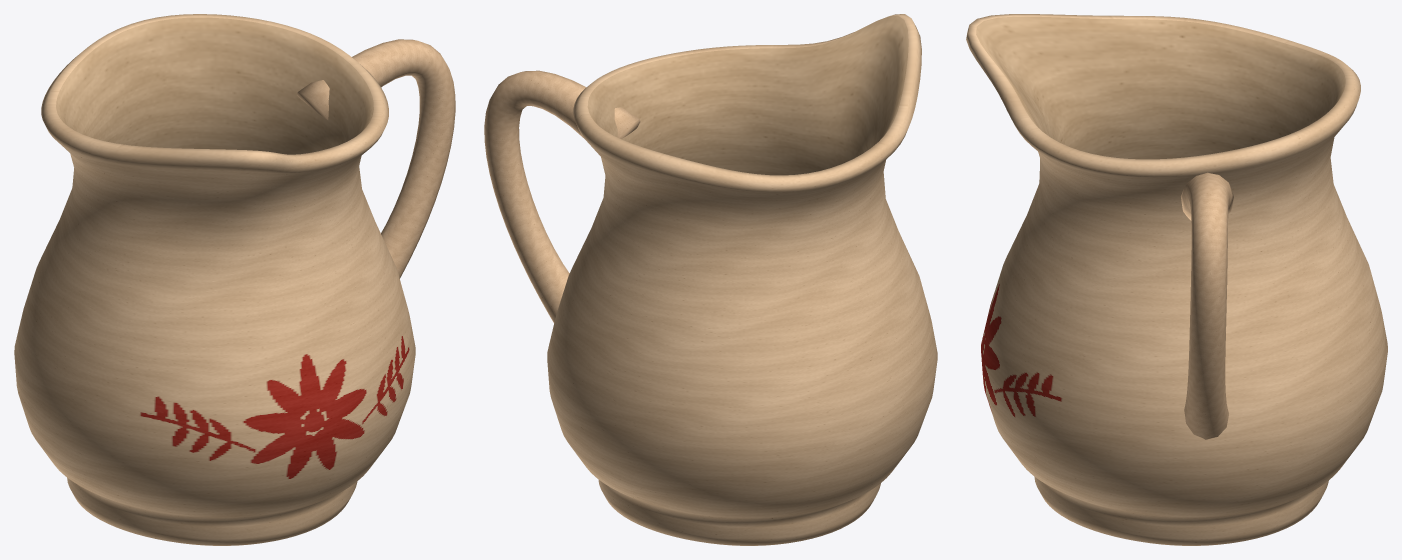
File: wash-pitcher.glb
3 renders of one model, left to right at view 1: azimuth 30°, elevation 25°; view 2: azimuth 150°, elevation 25°; view 3: azimuth 270°, elevation 25°, orthographic. The views are drawn at different scales.
Parts seen in each view (by area): view 1: Glazed hollow hand-thrown body, Pulled ceramic handle; view 2: Glazed hollow hand-thrown body, Pulled ceramic handle; view 3: Glazed hollow hand-thrown body, Pulled ceramic handle.
Boxes of the visible parts, left/top/right/bottom form: Glazed hollow hand-thrown body: left=14, top=14, right=415, bottom=545; Pulled ceramic handle: left=297, top=39, right=455, bottom=278; Glazed hollow hand-thrown body: left=547, top=14, right=937, bottom=545; Pulled ceramic handle: left=484, top=70, right=640, bottom=323; Glazed hollow hand-thrown body: left=966, top=14, right=1387, bottom=545; Pulled ceramic handle: left=1181, top=172, right=1233, bottom=439.
Bounding box in the file's own units: 0.2915 × 0.2835 × 0.2488.
3 materials, 3 textured.
